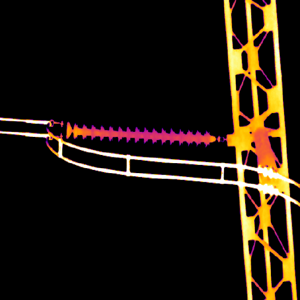insulator: (65, 118, 216, 146)
